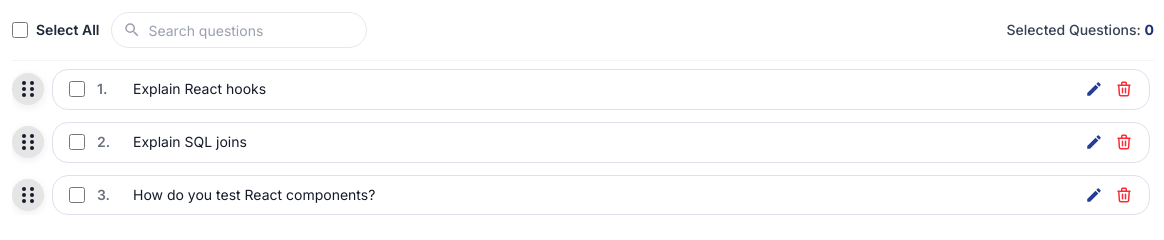
QuestionList › clicking edit shows inline input; Escape reverts without saving
Click the button named "Edit question" in the row of "Explain React hooks".
click(1094, 89)  # box [1085,80,1103,98]
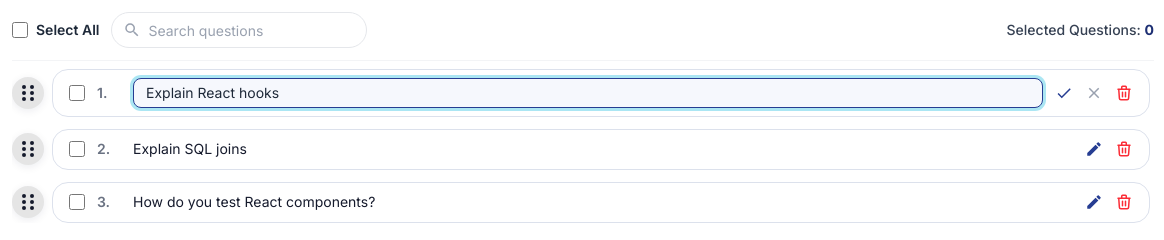
Expected: the field showing "Explain React hooks" is shown, [133,78,1043,108]
Press Escape
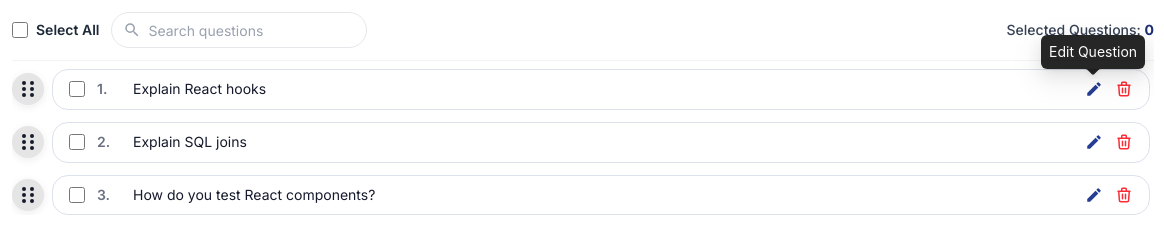
Expected: the text "Explain React hooks" is shown, [133,80,266,97]
